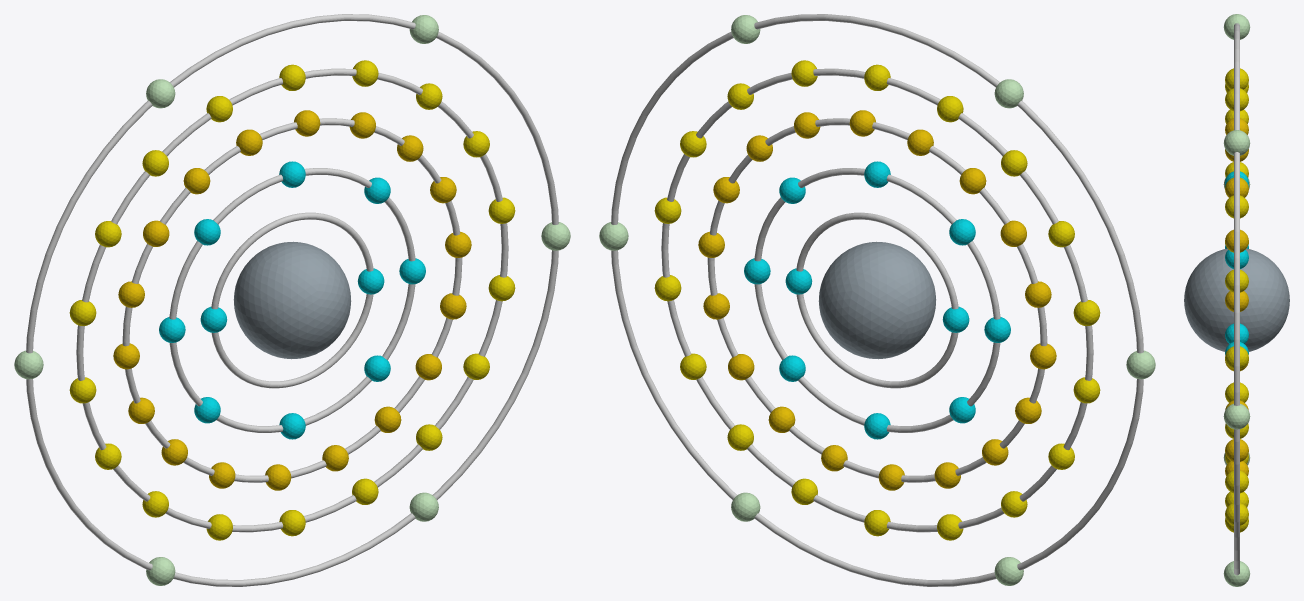
3 views of the same model, side by side, from view 1: azimuth 30°, elevation 25°; view 2: azimuth 150°, elevation 25°; view 3: azimuth 270°, elevation 25° (orthographic). The views are drawn at different scales.
Parts seen in each view (by area): view 1: world; view 2: world; view 3: world.
Boxes of the visible parts, left/top/right/bottom form: world: left=14, top=14, right=570, bottom=586; world: left=599, top=14, right=1155, bottom=586; world: left=1184, top=14, right=1289, bottom=586.
Size of the model in its own units: 2.39 by 2.31 by 0.44.
